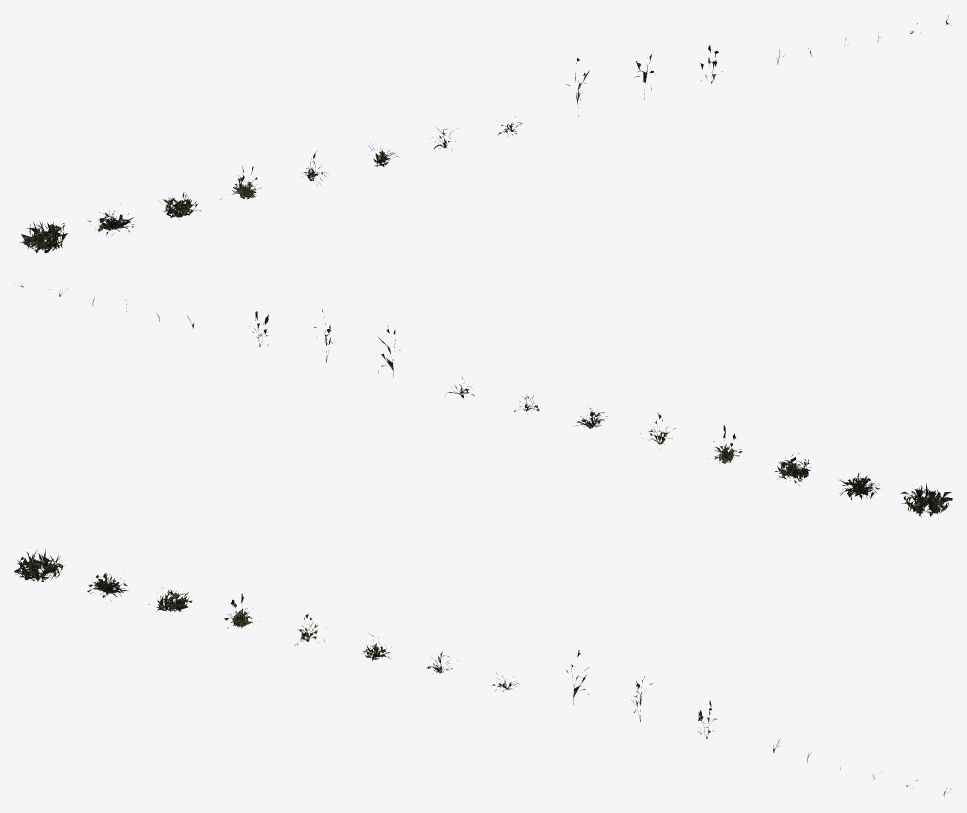
The model's file is grass_medium_01_lod2.glb.
3 views of the same model, one above another, from view 1: azimuth 30°, elevation 25°; view 2: azimuth 150°, elevation 25°; view 3: azimuth 330°, elevation 25° (orthographic).
Parts seen in each view (by area): view 1: grass_medium_01_large_a_LOD0; view 2: grass_medium_01_large_a_LOD0, grass_medium_01_large_c_LOD0, grass_medium_01_large_b_LOD0; view 3: grass_medium_01_large_a_LOD0.
Part boxes in pixels (x1,y1,x2,y2): grass_medium_01_large_a_LOD0: [20, 221, 67, 253]; grass_medium_01_large_a_LOD0: [900, 483, 952, 516]; grass_medium_01_large_c_LOD0: [774, 453, 811, 485]; grass_medium_01_large_b_LOD0: [839, 472, 879, 499]; grass_medium_01_large_a_LOD0: [14, 547, 64, 581].
Bounding box in the file's own units: 5.6 × 0.3399 × 0.2906.
1 material, 1 textured.
